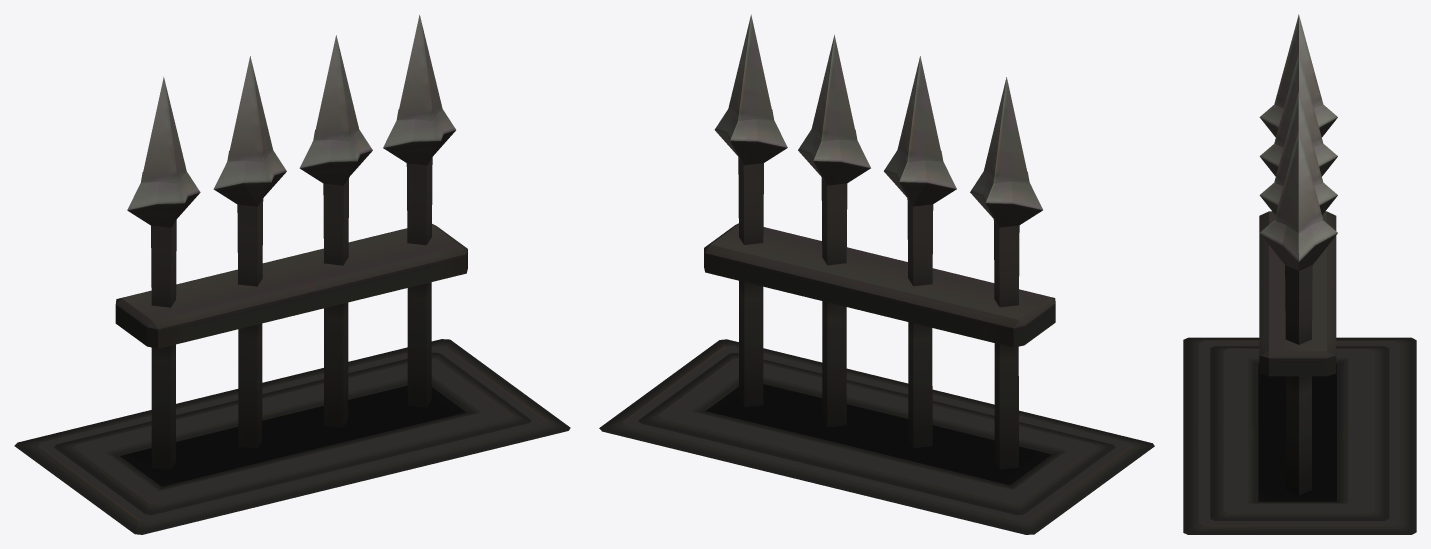
The model's file is [gimmick]battlegate_down.fbx.
3 views of the same model, side by side, from view 1: azimuth 30°, elevation 25°; view 2: azimuth 150°, elevation 25°; view 3: azimuth 270°, elevation 25° (orthographic). The views are drawn at different scales.
Visible parts, largest first — view 1: [gimmick]battlegate_down, [gimmick]battlegate_down_base; view 2: [gimmick]battlegate_down, [gimmick]battlegate_down_base; view 3: [gimmick]battlegate_down_base, [gimmick]battlegate_down.
Part boxes in pixels (<box>): [gimmick]battlegate_down: <box>115,15,467,470</box>; [gimmick]battlegate_down_base: <box>14,339,570,534</box>; [gimmick]battlegate_down: <box>704,14,1055,469</box>; [gimmick]battlegate_down_base: <box>599,339,1154,534</box>; [gimmick]battlegate_down_base: <box>1183,337,1416,534</box>; [gimmick]battlegate_down: <box>1259,14,1337,495</box>.
Size of the model in its own units: 2.01 by 1.73 by 1.01.
1 material, 1 textured.
